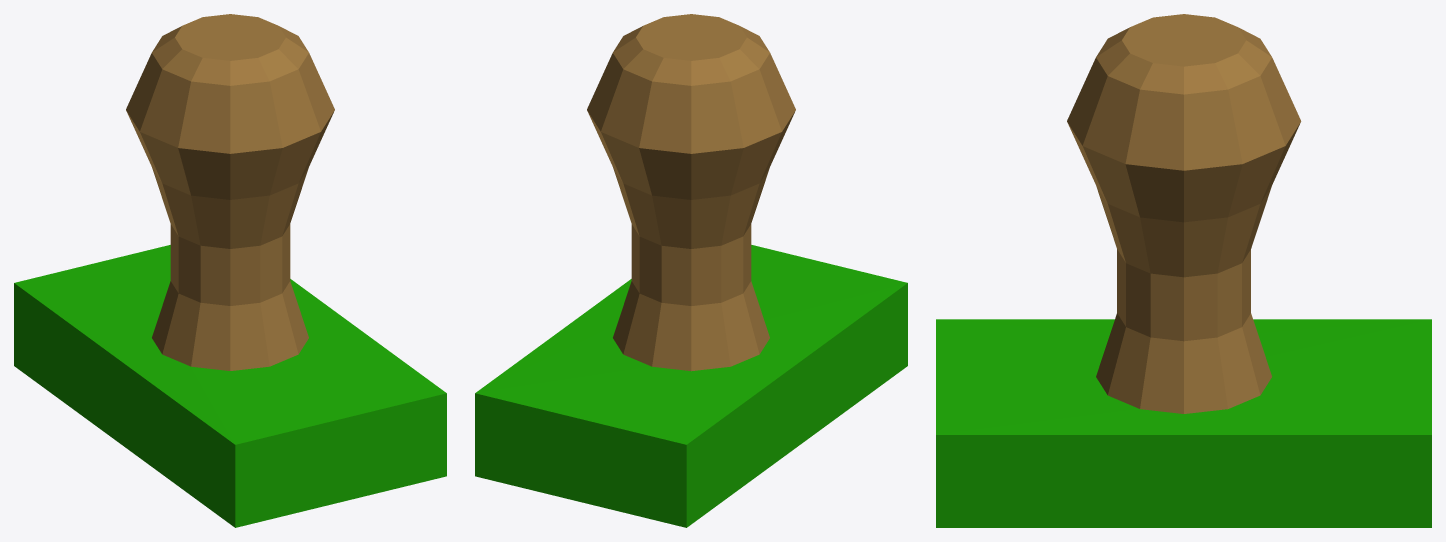
File: GreenStampWood.fbx
3 views of the same model, side by side, from view 1: azimuth 30°, elevation 25°; view 2: azimuth 150°, elevation 25°; view 3: azimuth 270°, elevation 25° (orthographic). The views are drawn at different scales.
Visible parts, largest first — view 1: stamp2; view 2: stamp2; view 3: stamp2.
Part boxes in pixels (x1,y1,x2,y2): stamp2: [14, 14, 446, 527]; stamp2: [475, 14, 907, 527]; stamp2: [936, 14, 1431, 527].
Bounding box in the file's own units: 155 × 269 × 281.
